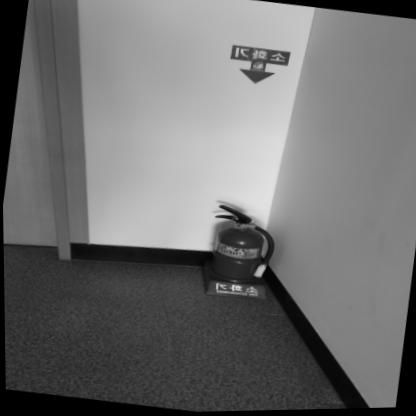FE: (201, 203, 277, 302)
